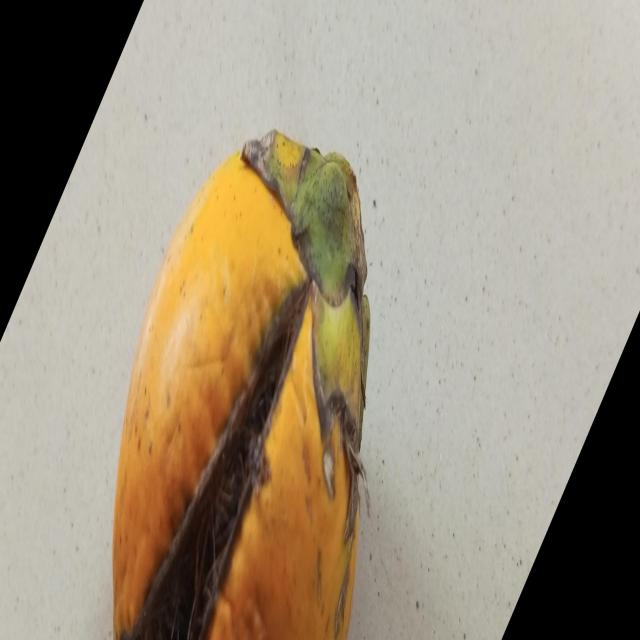damaged: (113, 131, 370, 640)
